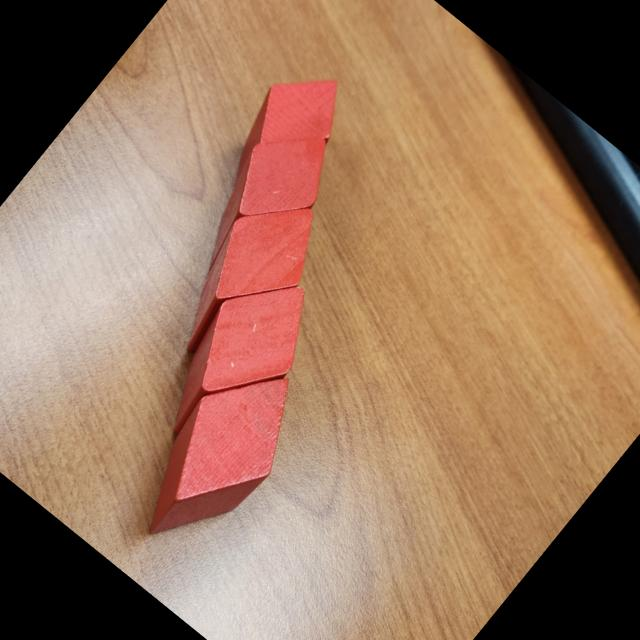red: (110, 342, 324, 570), (136, 252, 336, 468), (150, 174, 342, 381), (174, 106, 353, 298), (208, 49, 363, 214)
